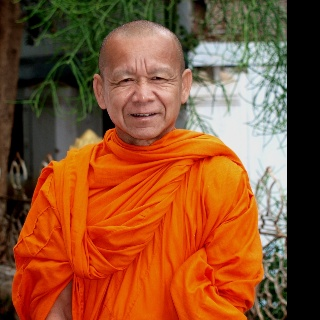without_mask: (99, 19, 184, 139)
